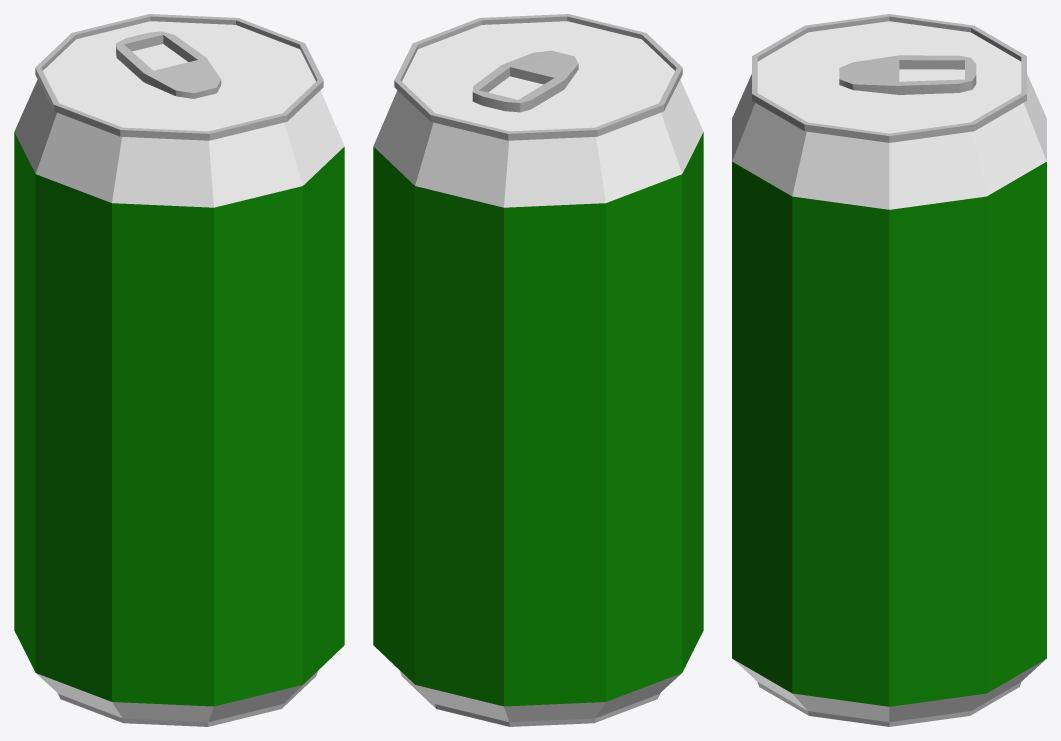
Rendered from can_c.fbx.
The picture shows the model from 3 angles, left to right: view 1: azimuth 30°, elevation 25°; view 2: azimuth 150°, elevation 25°; view 3: azimuth 270°, elevation 25°; orthographic projection.
Parts seen in each view (by area): view 1: Can_C; view 2: Can_C; view 3: Can_C.
Part boxes in pixels (bbox=[...]): Can_C: bbox=[14, 14, 344, 726]; Can_C: bbox=[373, 14, 703, 726]; Can_C: bbox=[732, 14, 1046, 726].
Size of the model in its own units: 0.0977 by 0.1956 by 0.093.
